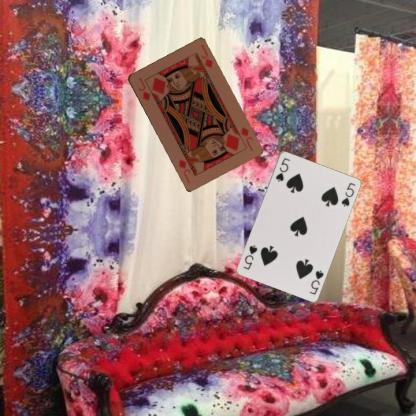5s: (307, 267, 325, 296), (272, 154, 290, 182)
Jd: (136, 74, 152, 102), (238, 124, 254, 152)
